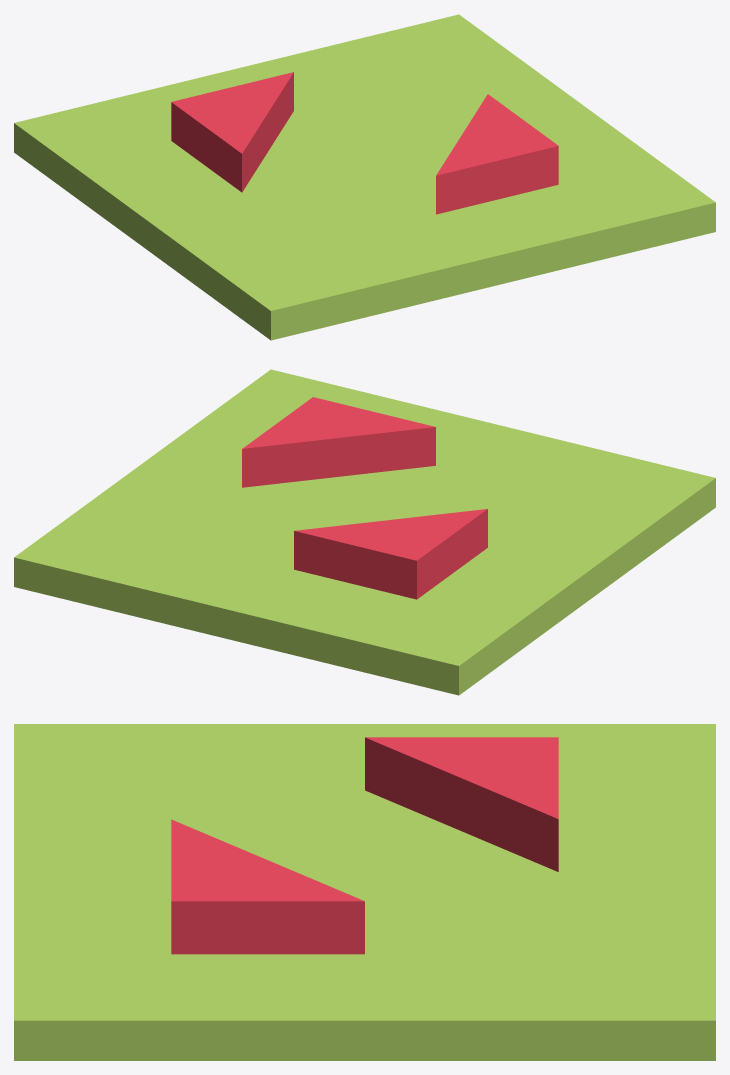
Rendered from obstacleTriangle.fbx.
3 renders of one model, top to bottom at view 1: azimuth 30°, elevation 25°; view 2: azimuth 150°, elevation 25°; view 3: azimuth 270°, elevation 25°, orthographic. The views are drawn at different scales.
Visible parts, largest first — view 1: obstacleTriangle; view 2: obstacleTriangle; view 3: obstacleTriangle.
Part boxes in pixels (x1=…): obstacleTriangle: x1=14, y1=14, x2=715, y2=340; obstacleTriangle: x1=14, y1=369, x2=715, y2=695; obstacleTriangle: x1=14, y1=724, x2=715, y2=1060.
Bounding box in the file's own units: 10 × 1.47 × 10.
